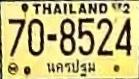0: (27, 18, 43, 55)
2: (96, 17, 112, 55)
4: (115, 17, 131, 55)
5: (77, 17, 94, 55)
7: (8, 18, 25, 56)
8: (59, 17, 75, 55)
NPT: (45, 57, 96, 78)
